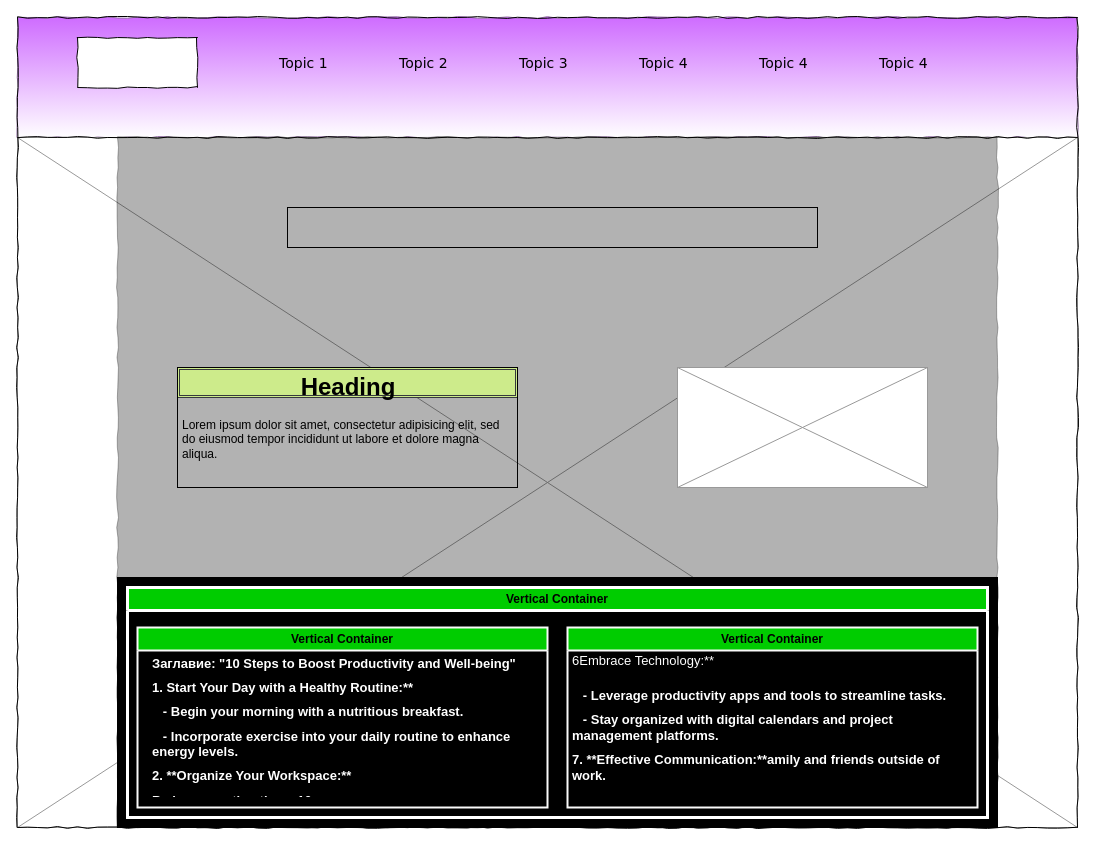
Image size: 1095x845. Some labels were removed from this diagram. Each missing label, with the centre of its shape:
"LOGO" goes at (x=137, y=62).
"Title" goes at (x=552, y=227).
